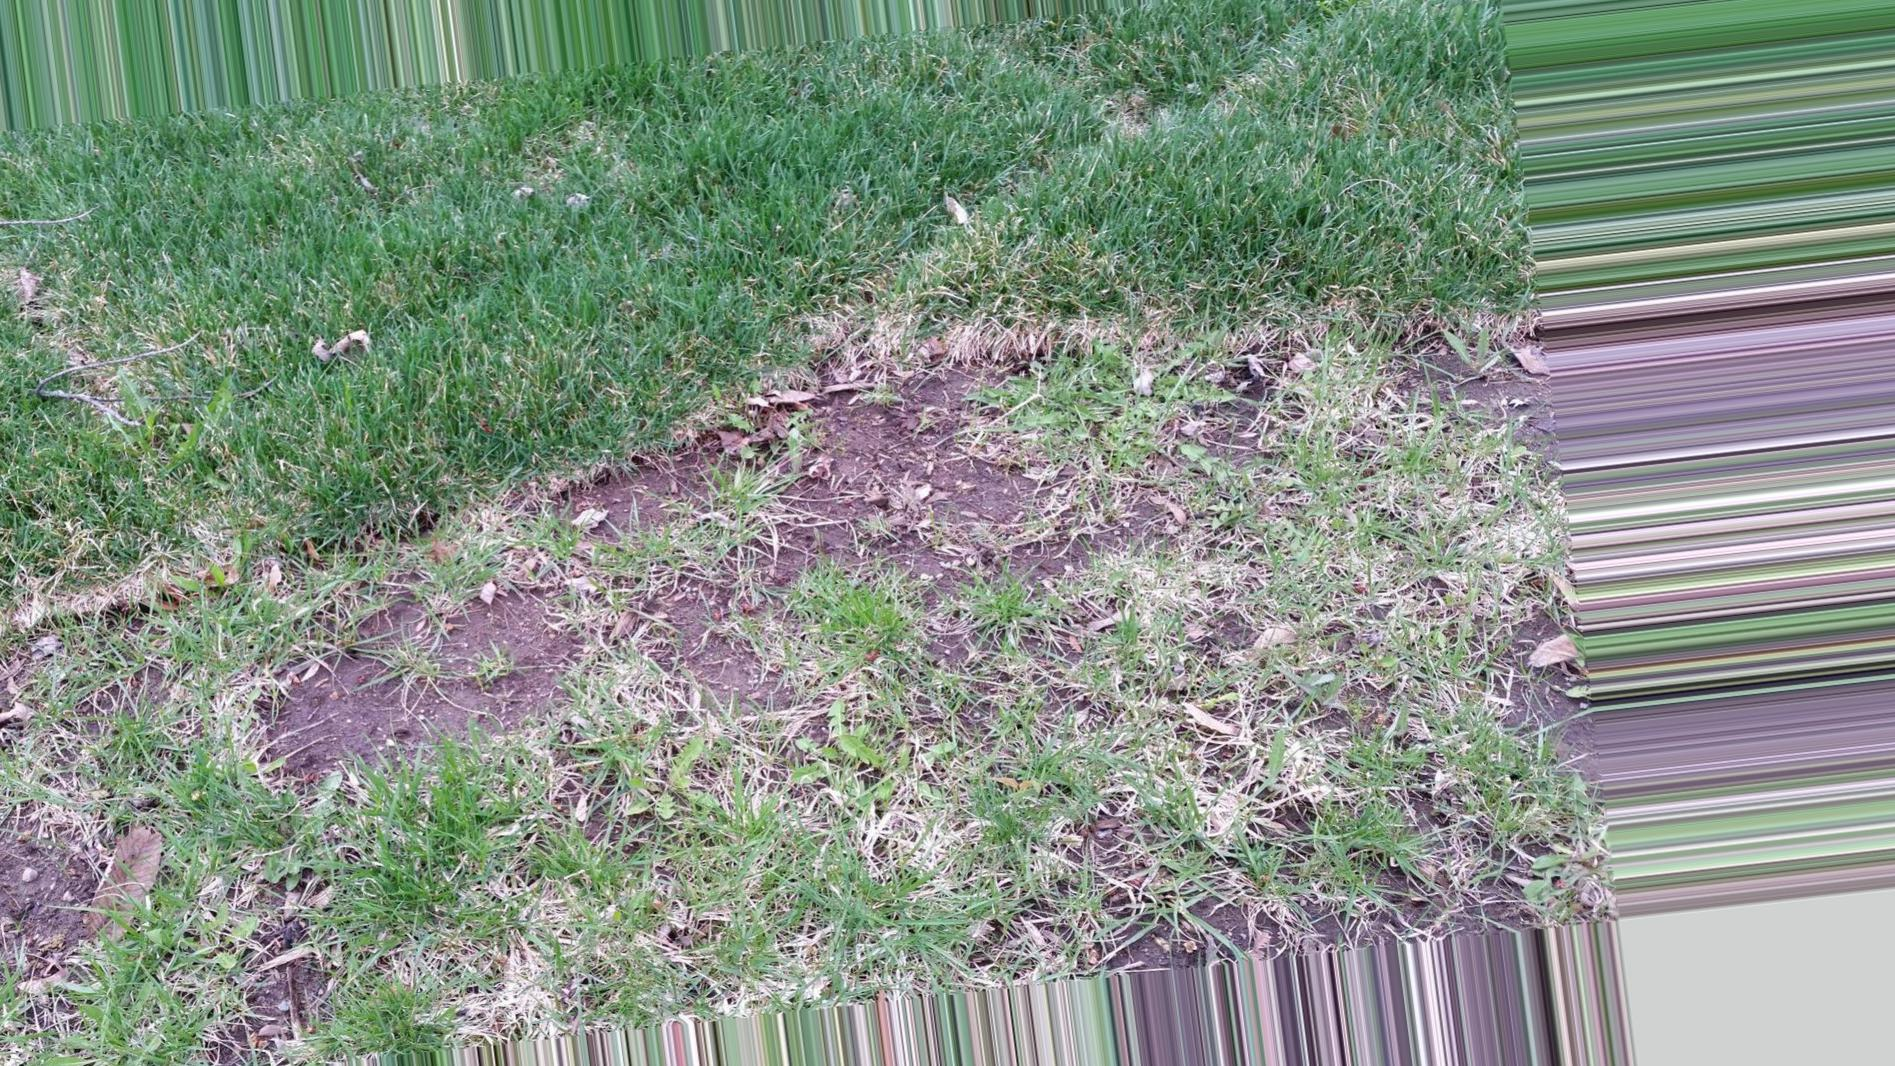patch: (277, 573, 534, 758), (1111, 815, 1505, 922), (828, 388, 1059, 561), (652, 577, 808, 698)
